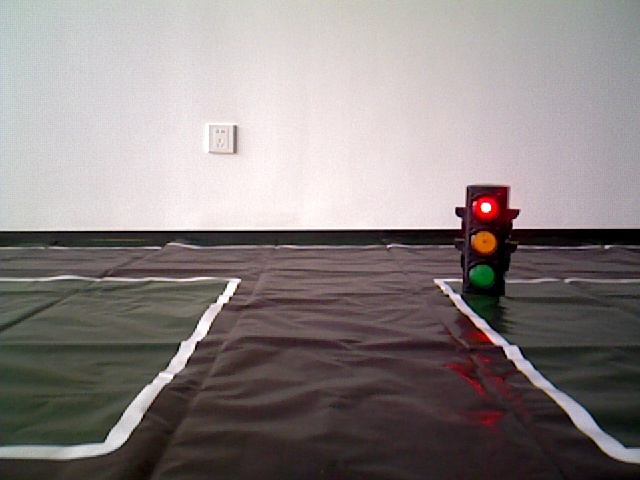red: (466, 187, 503, 291)
